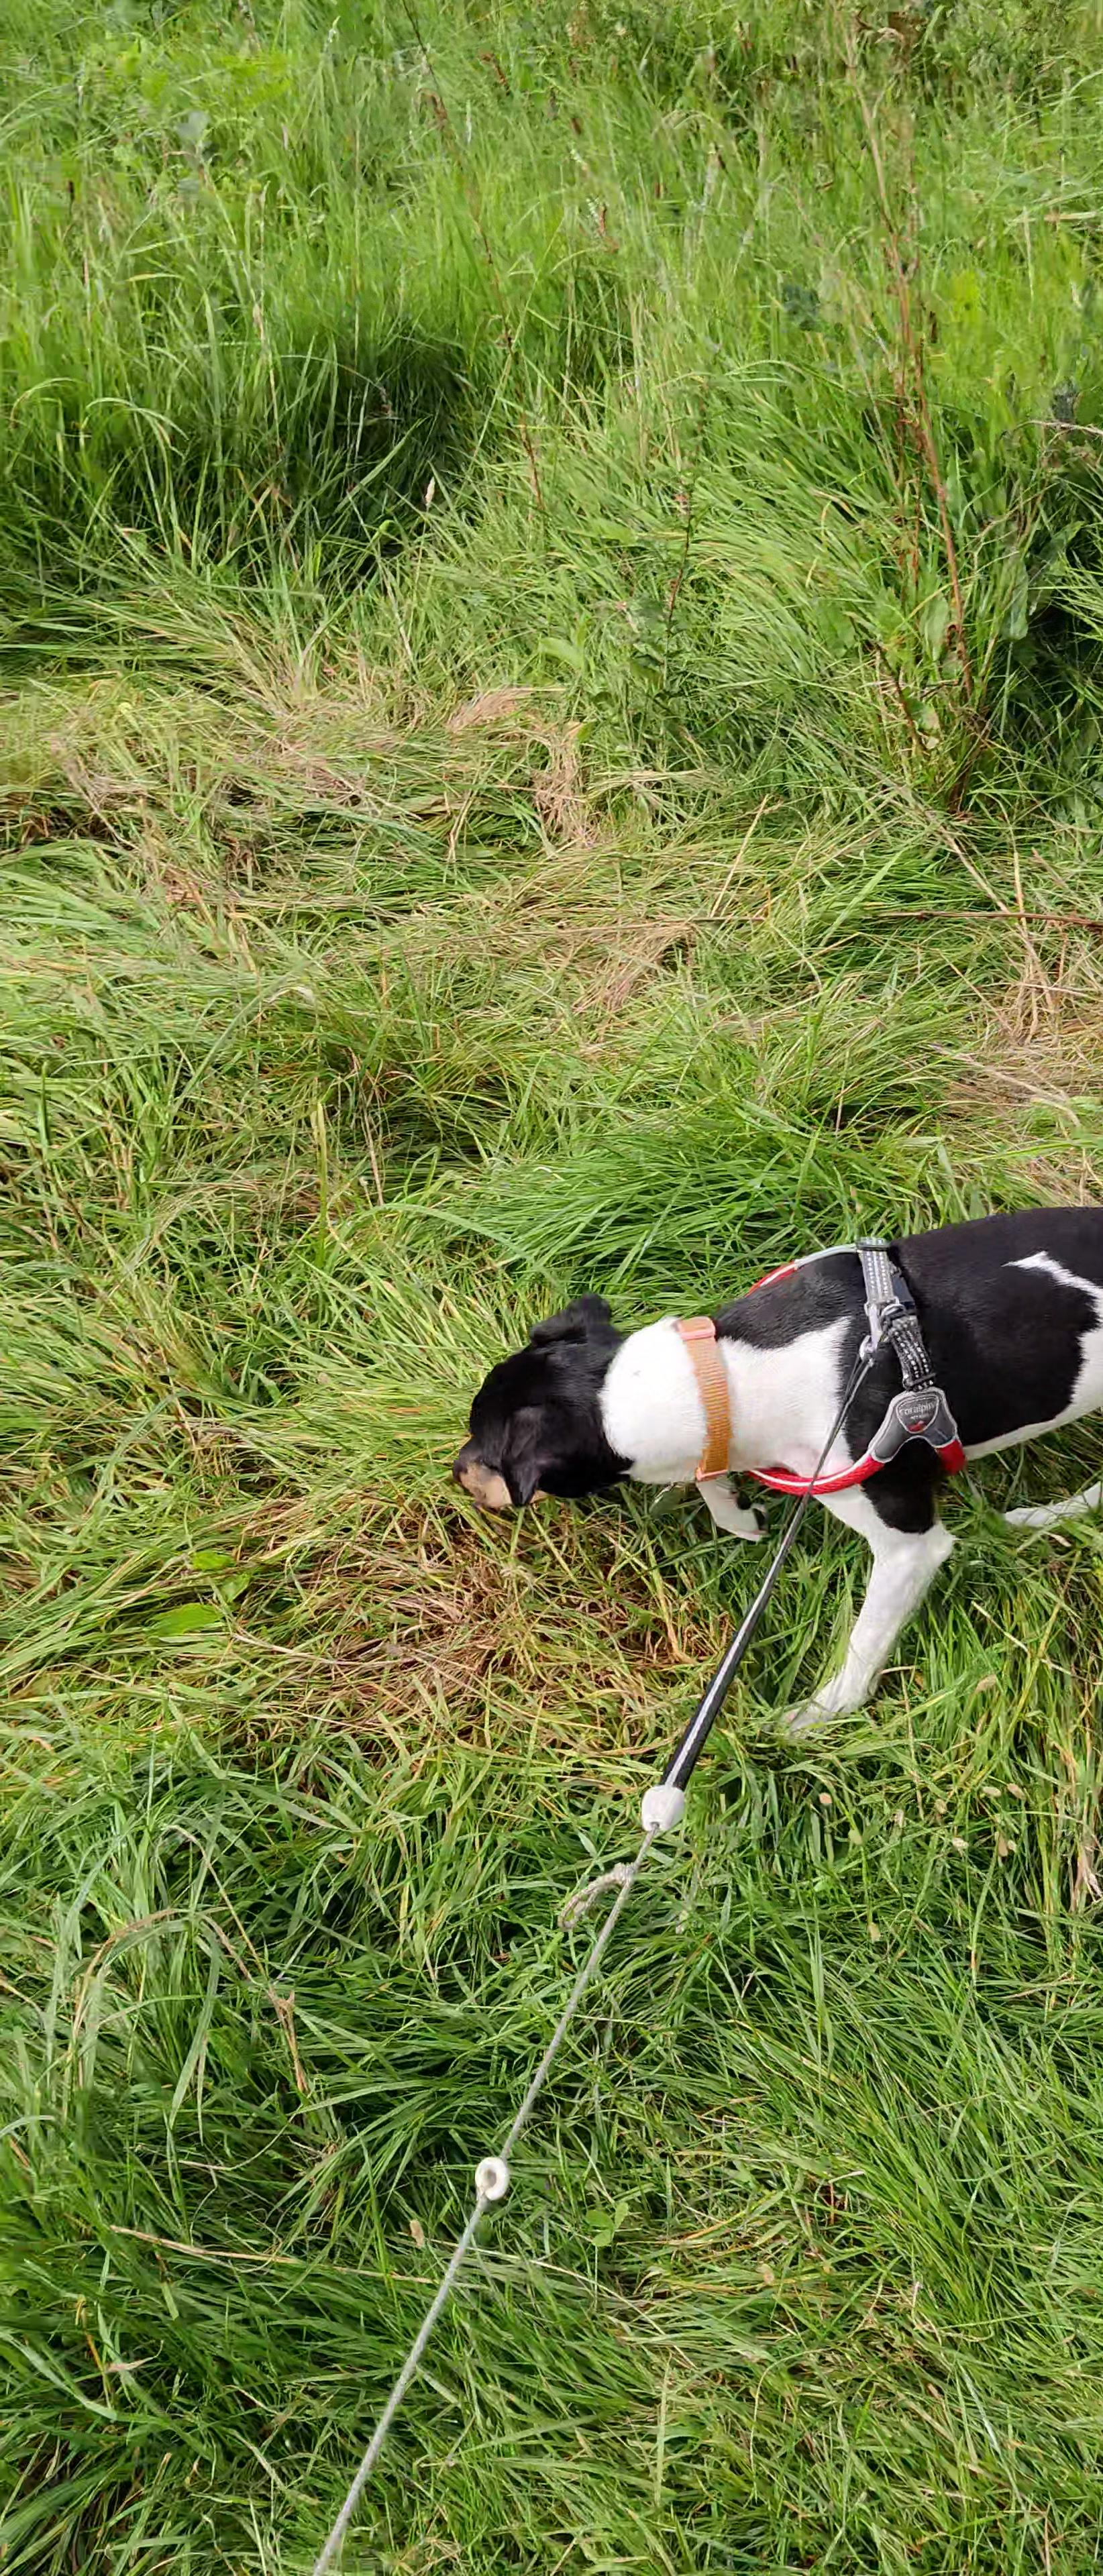Dog: (434, 1196, 1103, 1740)
